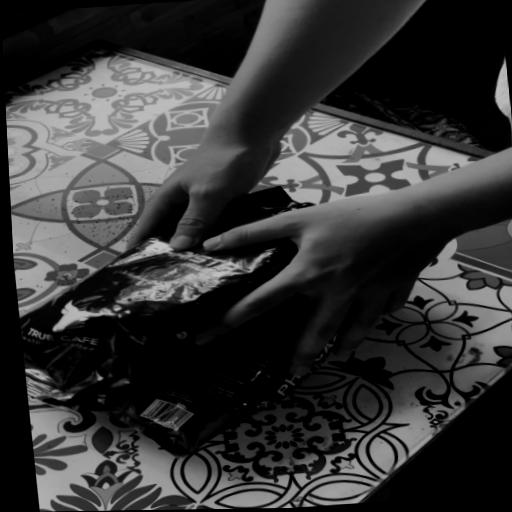cafe_hat: (19, 225, 296, 411), (215, 187, 305, 233)
cafe_xay: (108, 297, 307, 457)
